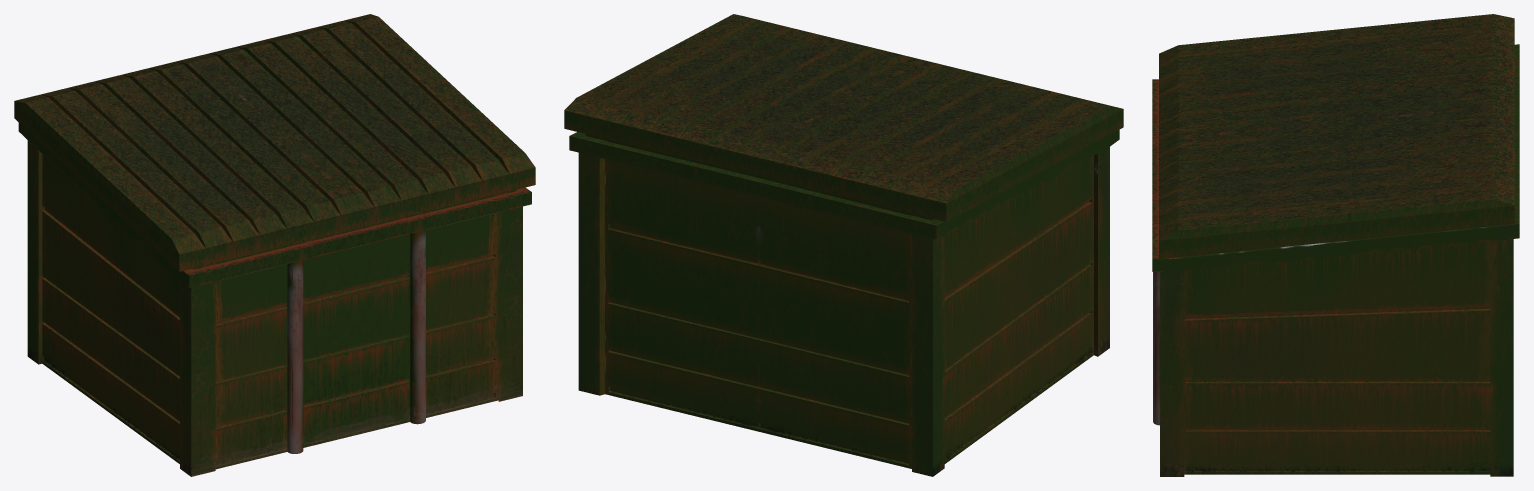
The model's file is dumpster.glb.
3 views of the same model, side by side, from view 1: azimuth 30°, elevation 25°; view 2: azimuth 150°, elevation 25°; view 3: azimuth 270°, elevation 25° (orthographic). The views are drawn at different scales.
Parts seen in each view (by area): view 1: trash, Cube.004; view 2: trash, Cube.004; view 3: trash, Cube.004.
Boxes of the visible parts, x1,y1,x2,y2 form: trash: (18, 123, 531, 476); Cube.004: (14, 14, 535, 271); trash: (569, 129, 1119, 476); Cube.004: (564, 14, 1123, 221); trash: (1152, 44, 1519, 476); Cube.004: (1159, 14, 1514, 259).
Bounding box in the file's own units: 3.59 × 2.54 × 2.98.
Materials: 1 (1 with a texture image).
